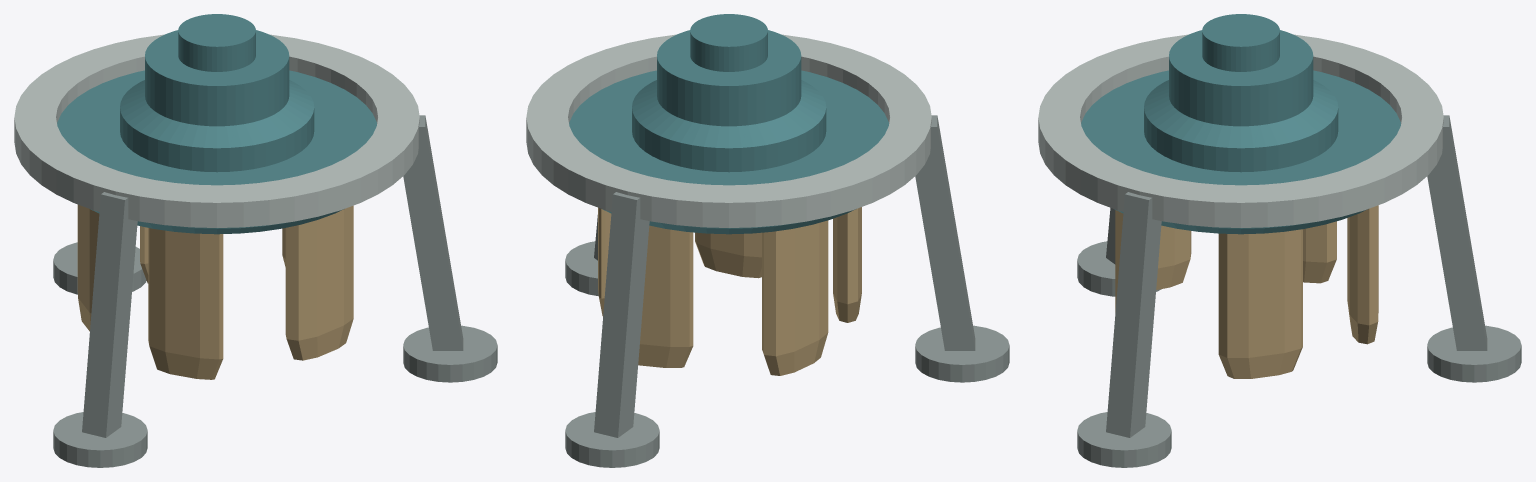
The picture shows the model from 3 angles, left to right: view 1: azimuth 30°, elevation 25°; view 2: azimuth 150°, elevation 25°; view 3: azimuth 270°, elevation 25°; orthographic projection.
Visible parts, largest first — view 1: WholeAnnularMountingShoulder, WholeClosedSteppedDriveHead, WholeClosedCircularRotorCasing, WholeFreeEndedVerticalFoil3, WholeInclinedCradleLeg1, WholeFreeEndedVerticalFoil4, WholeInclinedCradleLeg2, WholeCradleGroundFoot2, WholeCradleGroundFoot1, WholeFreeEndedVerticalFoil2, WholeCradleGroundFoot0; view 2: WholeAnnularMountingShoulder, WholeClosedSteppedDriveHead, WholeClosedCircularRotorCasing, WholeFreeEndedVerticalFoil2, WholeInclinedCradleLeg0, WholeFreeEndedVerticalFoil1, WholeInclinedCradleLeg1, WholeCradleGroundFoot1, WholeCradleGroundFoot0, WholeFreeEndedVerticalFoil3, WholeFreeEndedVerticalFoil4, WholeCradleGroundFoot2 (+1 smaller); view 3: WholeAnnularMountingShoulder, WholeClosedSteppedDriveHead, WholeClosedCircularRotorCasing, WholeFreeEndedVerticalFoil0, WholeInclinedCradleLeg2, WholeInclinedCradleLeg0, WholeFreeEndedVerticalFoil1, WholeCradleGroundFoot0, WholeCradleGroundFoot2, WholeFreeEndedVerticalFoil2, WholeFreeEndedVerticalFoil3, WholeCradleGroundFoot1 (+1 smaller).
Part boxes in pixels (x1,y1,x2,y2): WholeAnnularMountingShoulder: (14,34,419,227); WholeClosedSteppedDriveHead: (120,14,314,172); WholeClosedCircularRotorCasing: (57,70,376,234); WholeFreeEndedVerticalFoil3: (148,228,223,379); WholeInclinedCradleLeg1: (82,192,137,437); WholeFreeEndedVerticalFoil4: (285,205,353,360); WholeInclinedCradleLeg2: (403,115,463,350); WholeCradleGroundFoot2: (403,325,497,382); WholeCradleGroundFoot1: (53,412,147,467); WholeFreeEndedVerticalFoil2: (77,204,99,331); WholeCradleGroundFoot0: (53,242,146,294); WholeAnnularMountingShoulder: (526,34,931,227); WholeClosedSteppedDriveHead: (632,14,826,172); WholeClosedCircularRotorCasing: (569,70,888,234); WholeFreeEndedVerticalFoil2: (762,220,828,375); WholeInclinedCradleLeg0: (594,192,649,437); WholeFreeEndedVerticalFoil1: (638,225,693,367); WholeInclinedCradleLeg1: (915,115,975,350); WholeCradleGroundFoot1: (915,325,1009,382); WholeCradleGroundFoot0: (565,412,659,467); WholeFreeEndedVerticalFoil3: (833,207,861,322); WholeFreeEndedVerticalFoil4: (695,232,761,278); WholeCradleGroundFoot2: (565,241,598,296); WholeAnnularMountingShoulder: (1038,34,1443,227); WholeClosedSteppedDriveHead: (1144,14,1338,172); WholeClosedCircularRotorCasing: (1081,70,1400,234); WholeFreeEndedVerticalFoil0: (1218,229,1302,378); WholeInclinedCradleLeg2: (1106,192,1161,437); WholeInclinedCradleLeg0: (1427,115,1487,350); WholeFreeEndedVerticalFoil1: (1347,205,1378,344); WholeCradleGroundFoot0: (1427,325,1521,382); WholeCradleGroundFoot2: (1077,412,1171,467); WholeFreeEndedVerticalFoil2: (1303,221,1336,283); WholeFreeEndedVerticalFoil3: (1156,225,1191,289); WholeCradleGroundFoot1: (1077,241,1161,296).
Size of the model in its own units: 3.59 by 2.64 by 3.48.
